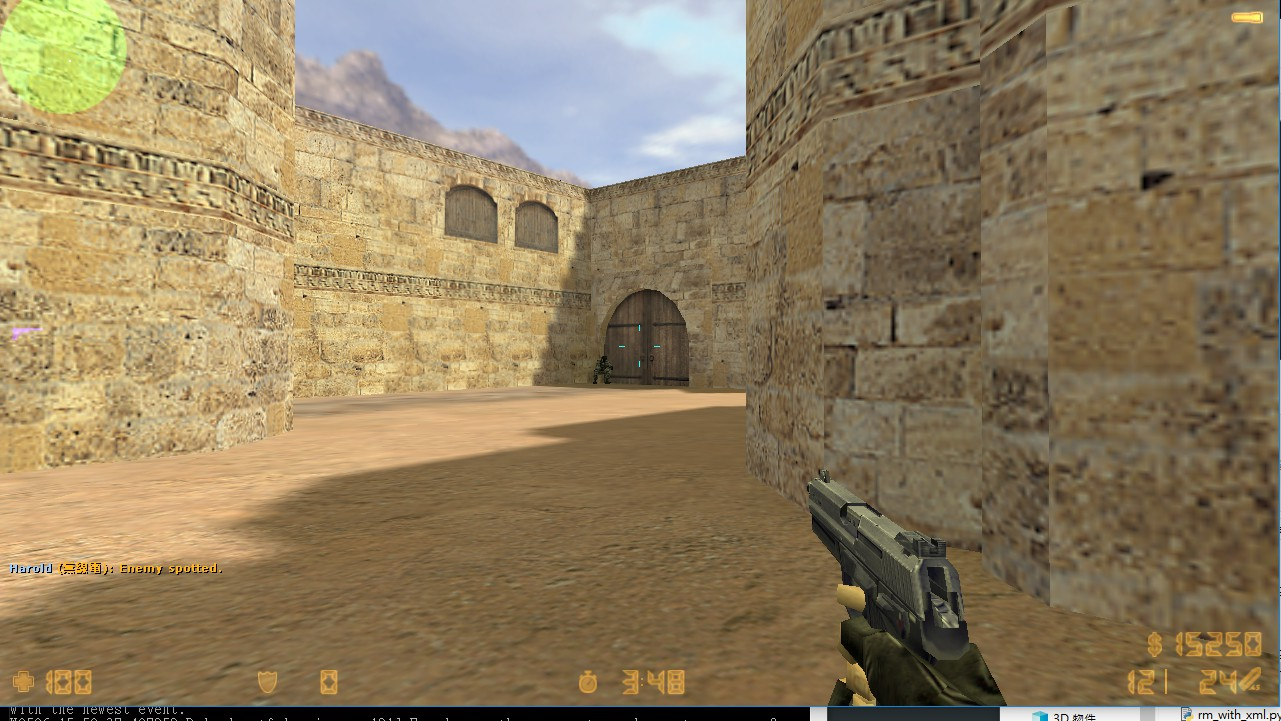person: (586, 352, 615, 386)
